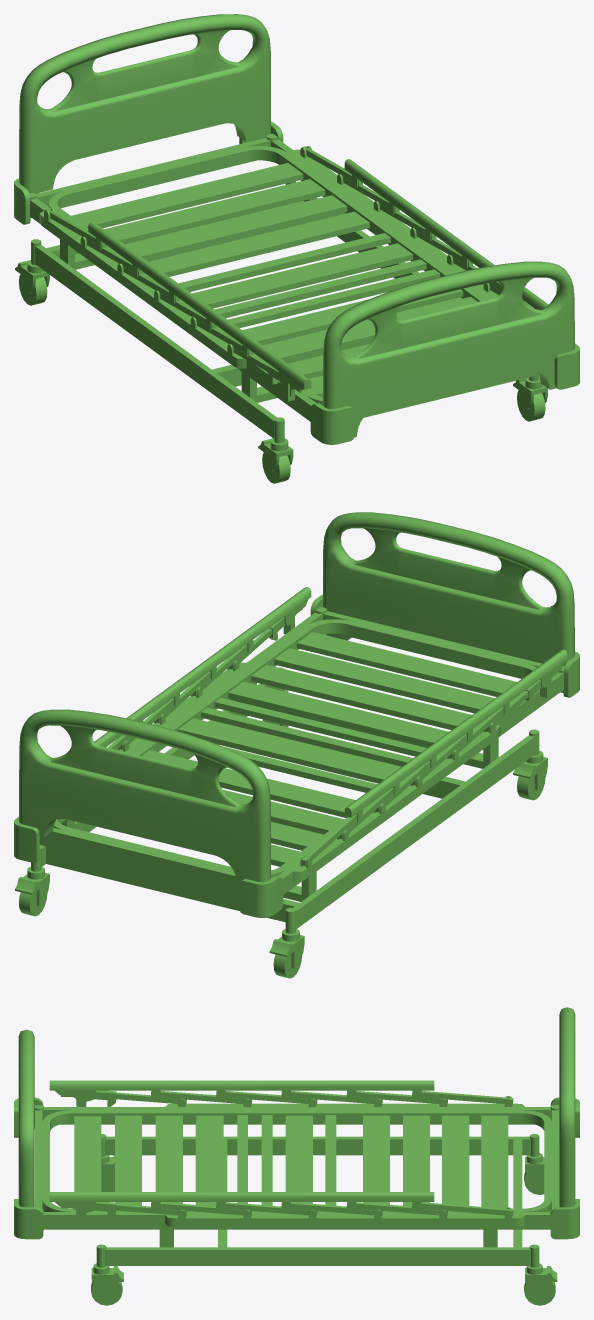
Rendered from SM_HospitalBed_02f.FBX.
3 renders of one model, top to bottom at view 1: azimuth 30°, elevation 25°; view 2: azimuth 150°, elevation 25°; view 3: azimuth 270°, elevation 25°, orthographic. The views are drawn at different scales.
Parts seen in each view (by area): view 1: SM_HospitalBed_02f_LOD0; view 2: SM_HospitalBed_02f_LOD0; view 3: SM_HospitalBed_02f_LOD0.
Part boxes in pixels (x1,y1,x2,y2): SM_HospitalBed_02f_LOD0: (14,14,579,483); SM_HospitalBed_02f_LOD0: (14,512,579,978); SM_HospitalBed_02f_LOD0: (14,1007,579,1305).
Size of what is drawn, in the model's own units: 109 by 89.09 by 221.
